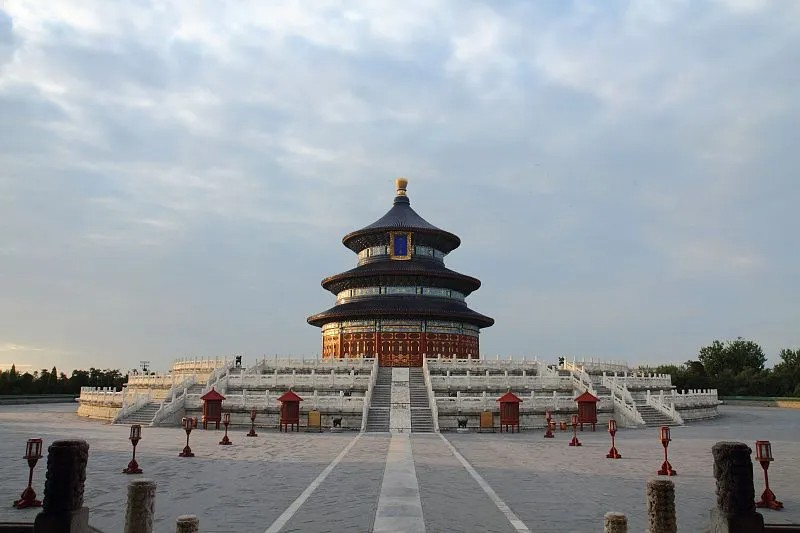Heaven: (306, 178, 496, 367)
